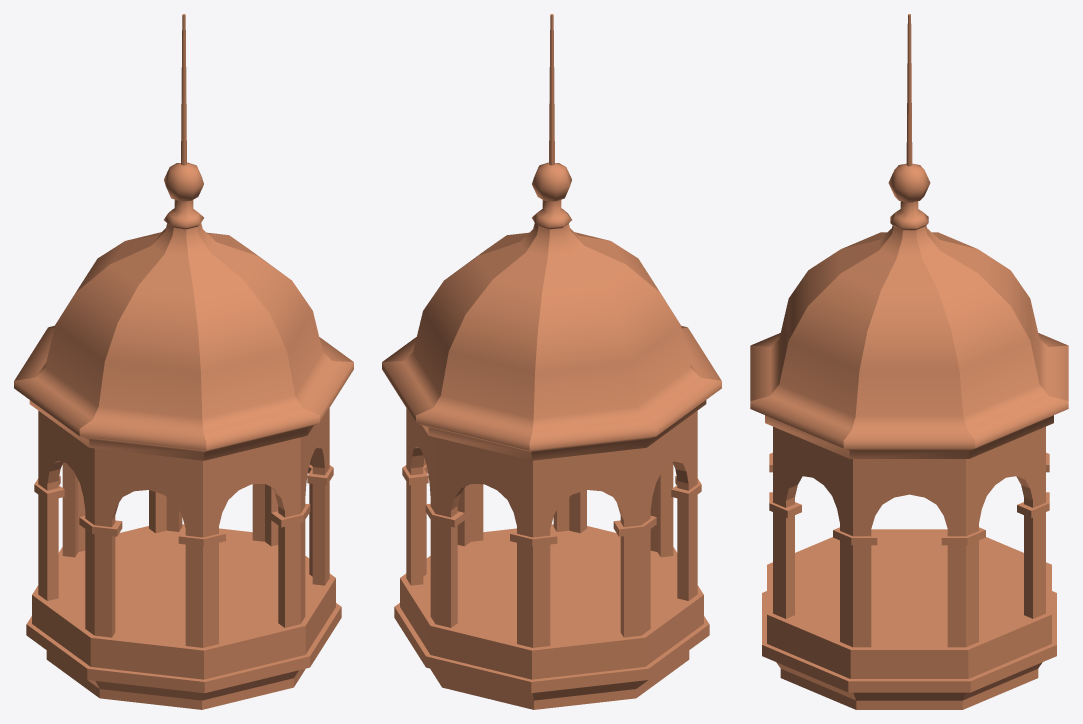
Rendered from tower3_spire.fbx.
3 views of the same model, side by side, from view 1: azimuth 30°, elevation 25°; view 2: azimuth 150°, elevation 25°; view 3: azimuth 270°, elevation 25° (orthographic).
Visible parts, largest first — view 1: Unity_Export_Mesh.001; view 2: Unity_Export_Mesh.001; view 3: Unity_Export_Mesh.001.
Part boxes in pixels (x1,y1,x2,y2): Unity_Export_Mesh.001: (14,14,353,709); Unity_Export_Mesh.001: (382,14,721,709); Unity_Export_Mesh.001: (750,14,1068,709).
Bounding box in the file's own units: 81.2 × 180 × 81.2.
